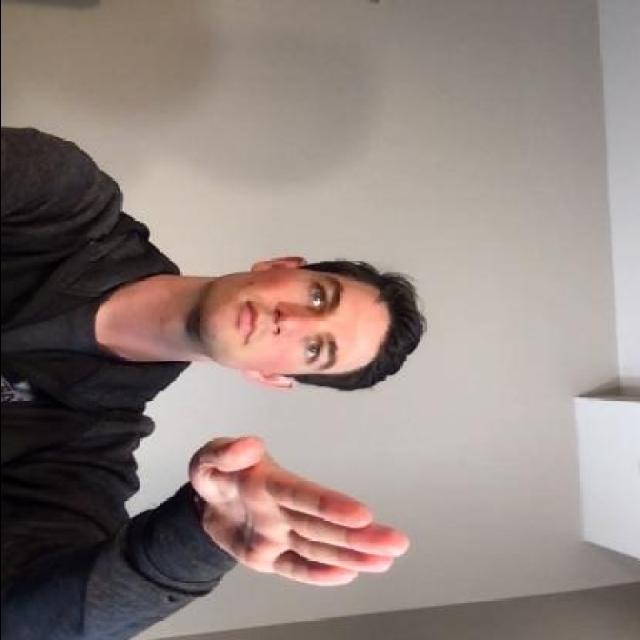Paper: (182, 432, 410, 590)
